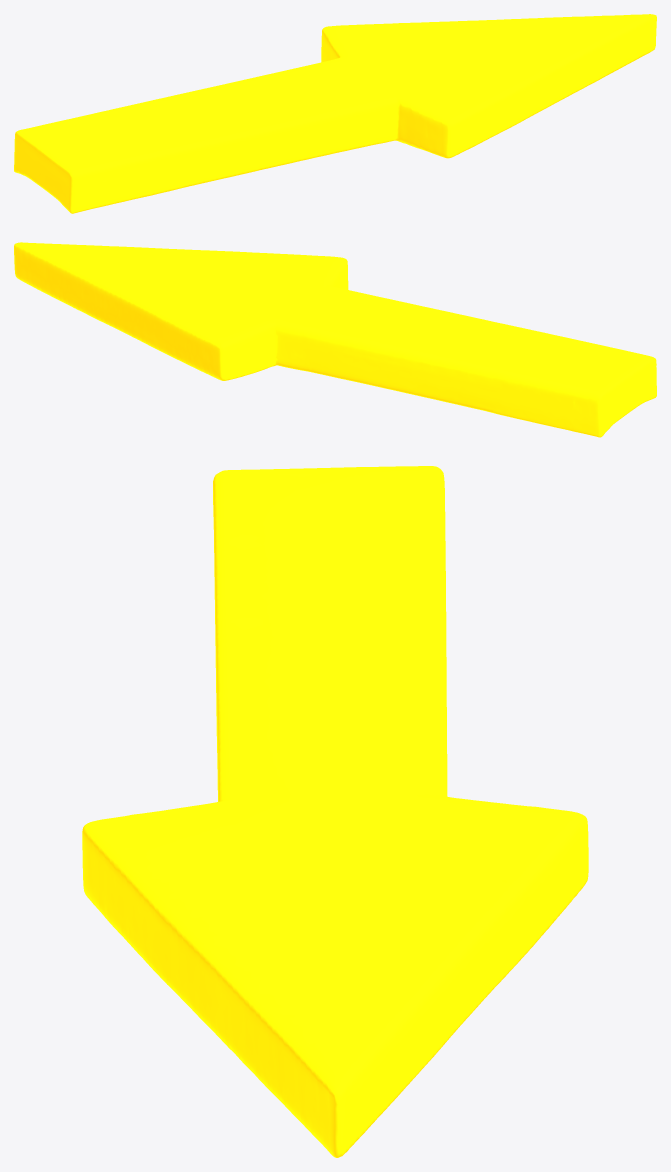
The model's file is modelYellow.glb.
3 views of the same model, one above another, from view 1: azimuth 30°, elevation 25°; view 2: azimuth 150°, elevation 25°; view 3: azimuth 270°, elevation 25° (orthographic). The views are drawn at different scales.
Parts seen in each view (by area): view 1: Mesh_0.001; view 2: Mesh_0.001; view 3: Mesh_0.001.
Boxes of the visible parts, left/top/right/bottom form: Mesh_0.001: left=14, top=14, right=656, bottom=213; Mesh_0.001: left=14, top=242, right=656, bottom=437; Mesh_0.001: left=82, top=466, right=588, bottom=1157.
Size of the model in its own units: 2 by 0.1624 by 0.716.
